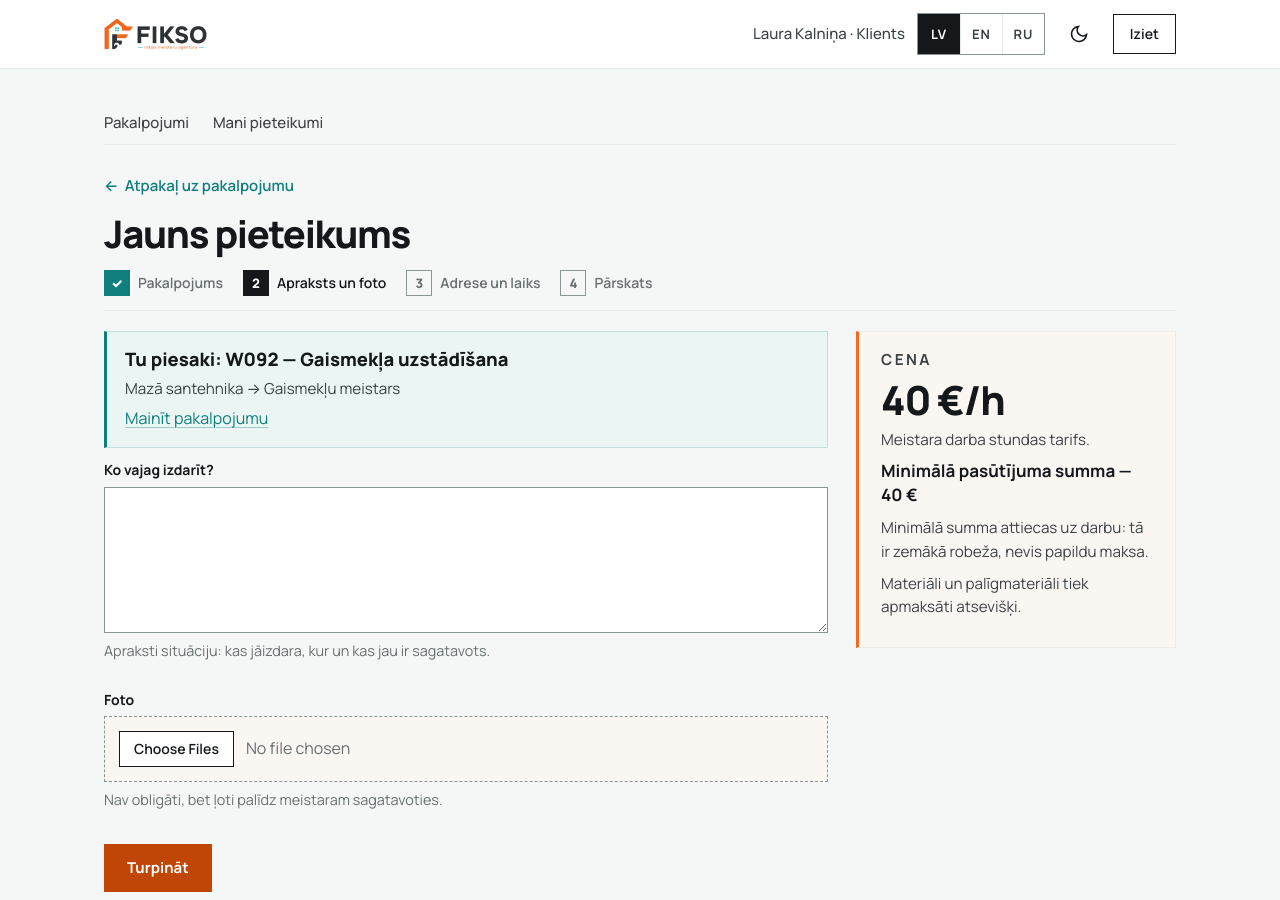
Test: client request flow › a too short description is stopped before anything is sent
In the text box labelled "Ko vajag izdarīt?": (466, 560) x1=104 y1=487 x2=828 y2=633, type "Lustra"
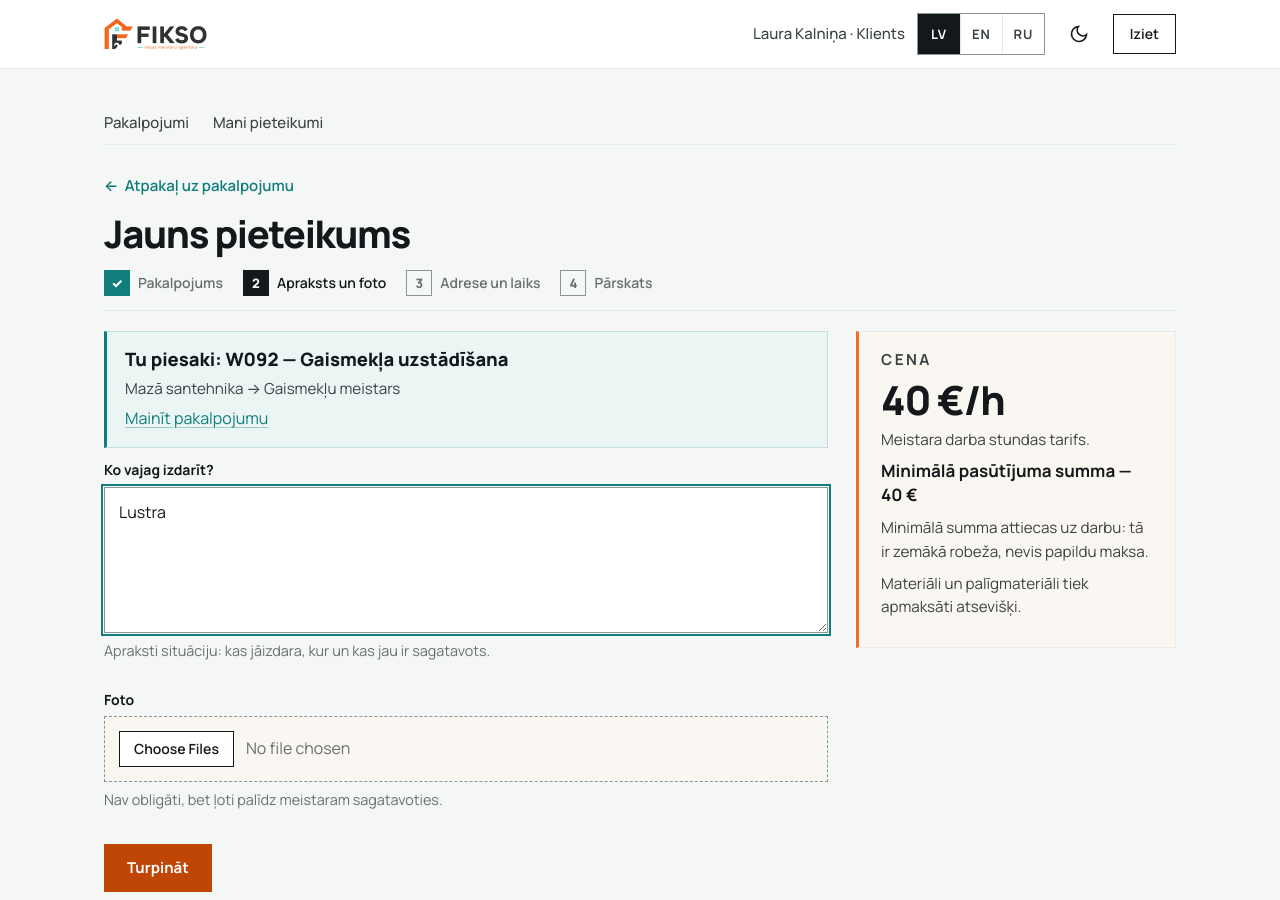
Click the button "Turpināt": click(158, 868) x1=104 y1=844 x2=212 y2=892
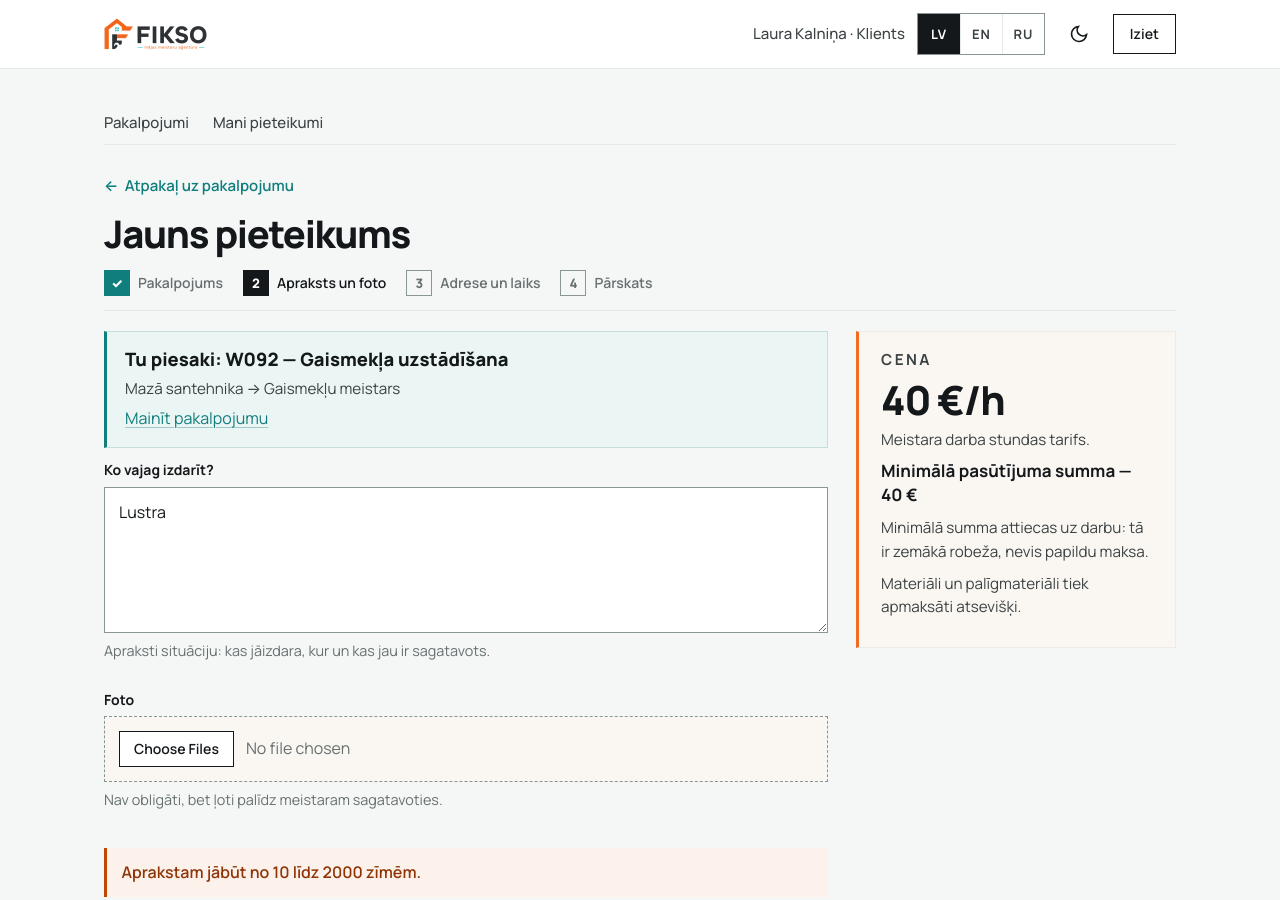
Expected: the message shows "no 10 līdz 2000", x1=121 y1=861 x2=421 y2=883
